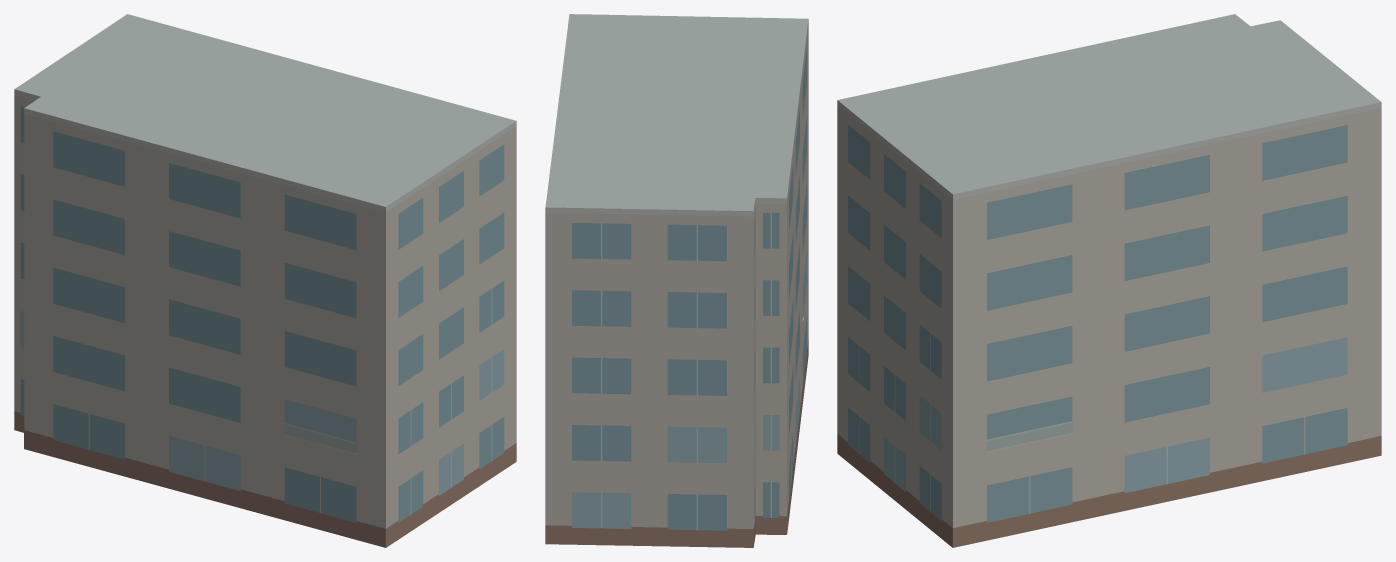
Rendered from survey-upis-32922737.glb.
3 views of the same model, side by side, from view 1: azimuth 30°, elevation 25°; view 2: azimuth 150°, elevation 25°; view 3: azimuth 270°, elevation 25° (orthographic). The views are drawn at different scales.
Parts seen in each view (by area): view 1: survey-upis-32922737.tmp; view 2: survey-upis-32922737.tmp; view 3: survey-upis-32922737.tmp.
Part boxes in pixels (x1,y1,x2,y2): survey-upis-32922737.tmp: [14, 14, 516, 547]; survey-upis-32922737.tmp: [545, 14, 808, 547]; survey-upis-32922737.tmp: [837, 14, 1381, 547].
Size of the model in its own units: 16.69 by 15.25 by 21.28.
